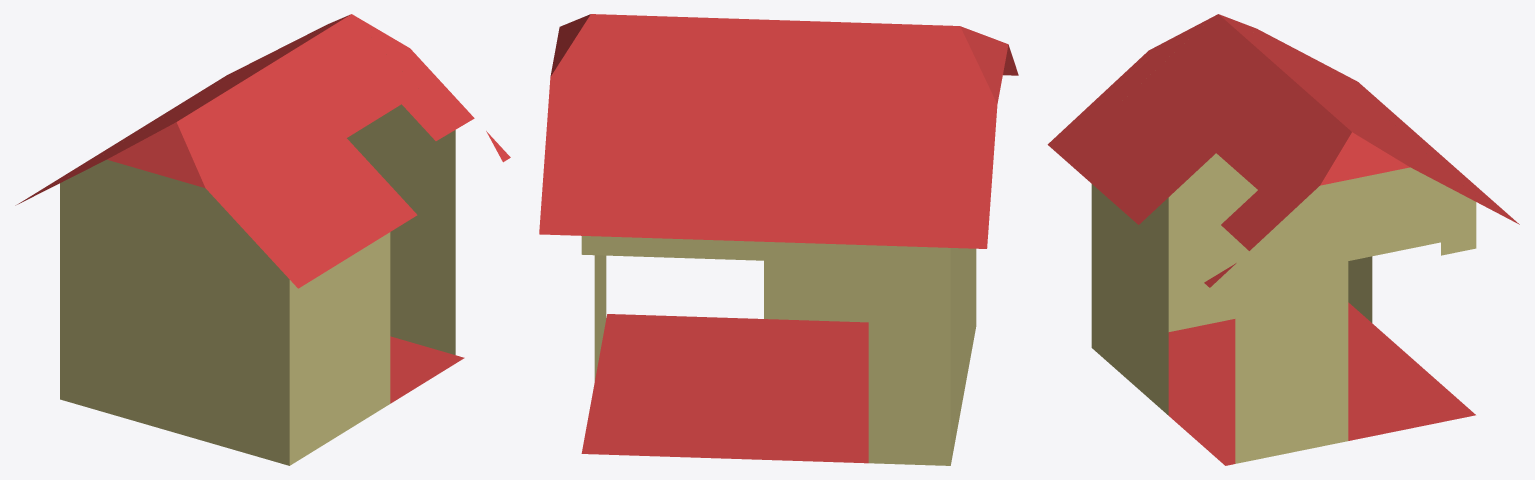
3 renders of one model, left to right at view 1: azimuth 30°, elevation 25°; view 2: azimuth 150°, elevation 25°; view 3: azimuth 270°, elevation 25°, orthographic. The views are drawn at different scales.
Bounding box in the file's own units: 14.74 × 14.29 × 10.32.
